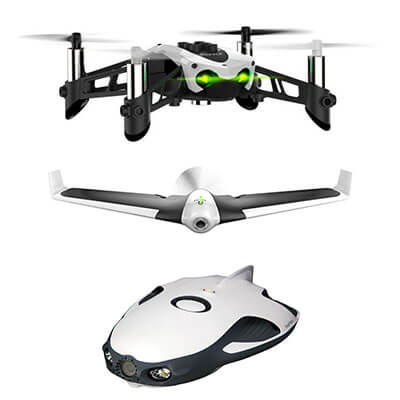drone: (16, 23, 372, 144), (93, 262, 309, 389), (41, 162, 357, 235)
